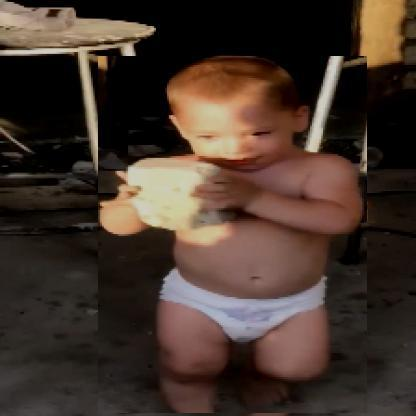child: (99, 57, 369, 415)
